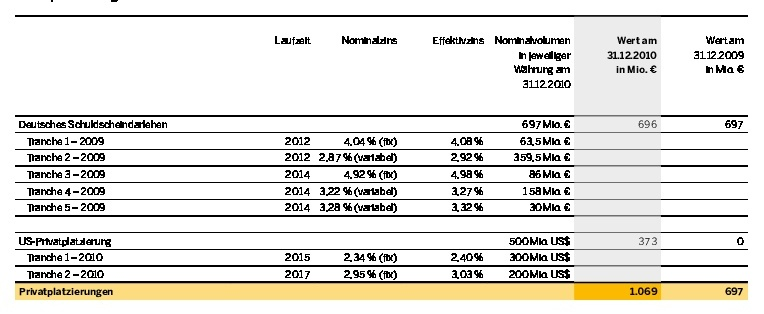table: (0, 0, 764, 314)
